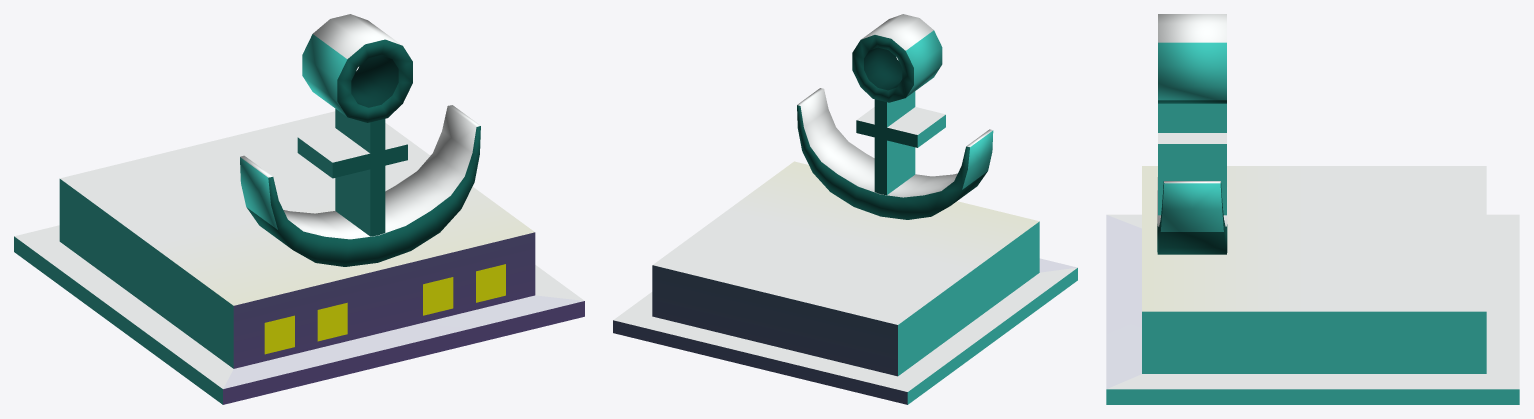
The model's file is Port.TealGalaxy.Snow.glb.
3 renders of one model, left to right at view 1: azimuth 30°, elevation 25°; view 2: azimuth 150°, elevation 25°; view 3: azimuth 270°, elevation 25°, orthographic. The views are drawn at different scales.
Visible parts, largest first — view 1: Port.TealGalaxy.Snow; view 2: Port.TealGalaxy.Snow; view 3: Port.TealGalaxy.Snow.
Boxes of the visible parts, x1,y1,x2,y2 form: Port.TealGalaxy.Snow: (14, 14, 584, 404); Port.TealGalaxy.Snow: (613, 14, 1077, 404); Port.TealGalaxy.Snow: (1106, 14, 1519, 404).
Bounding box in the file's own units: 2.4 × 1.9 × 2.4.
Materials: 2 (1 with a texture image).
